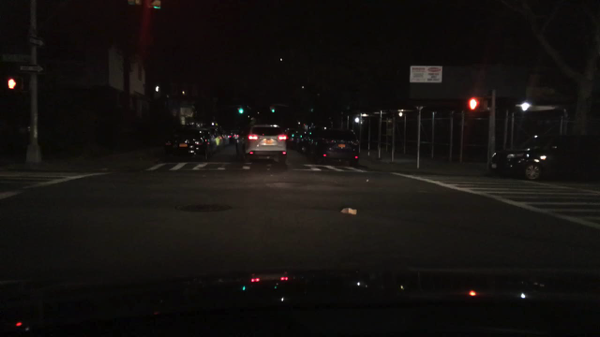car: (485, 135, 599, 183), (235, 123, 286, 161), (315, 128, 360, 165), (164, 130, 212, 163), (303, 130, 320, 156), (203, 129, 217, 153), (212, 128, 223, 150), (287, 130, 300, 147), (297, 131, 308, 150), (221, 127, 229, 145), (230, 130, 240, 143)
traffic light: (7, 77, 22, 90), (469, 97, 479, 111), (148, 1, 162, 9), (127, 0, 141, 6), (271, 105, 275, 112), (240, 106, 242, 113)
traffic sign: (20, 64, 44, 74), (30, 36, 44, 46)
